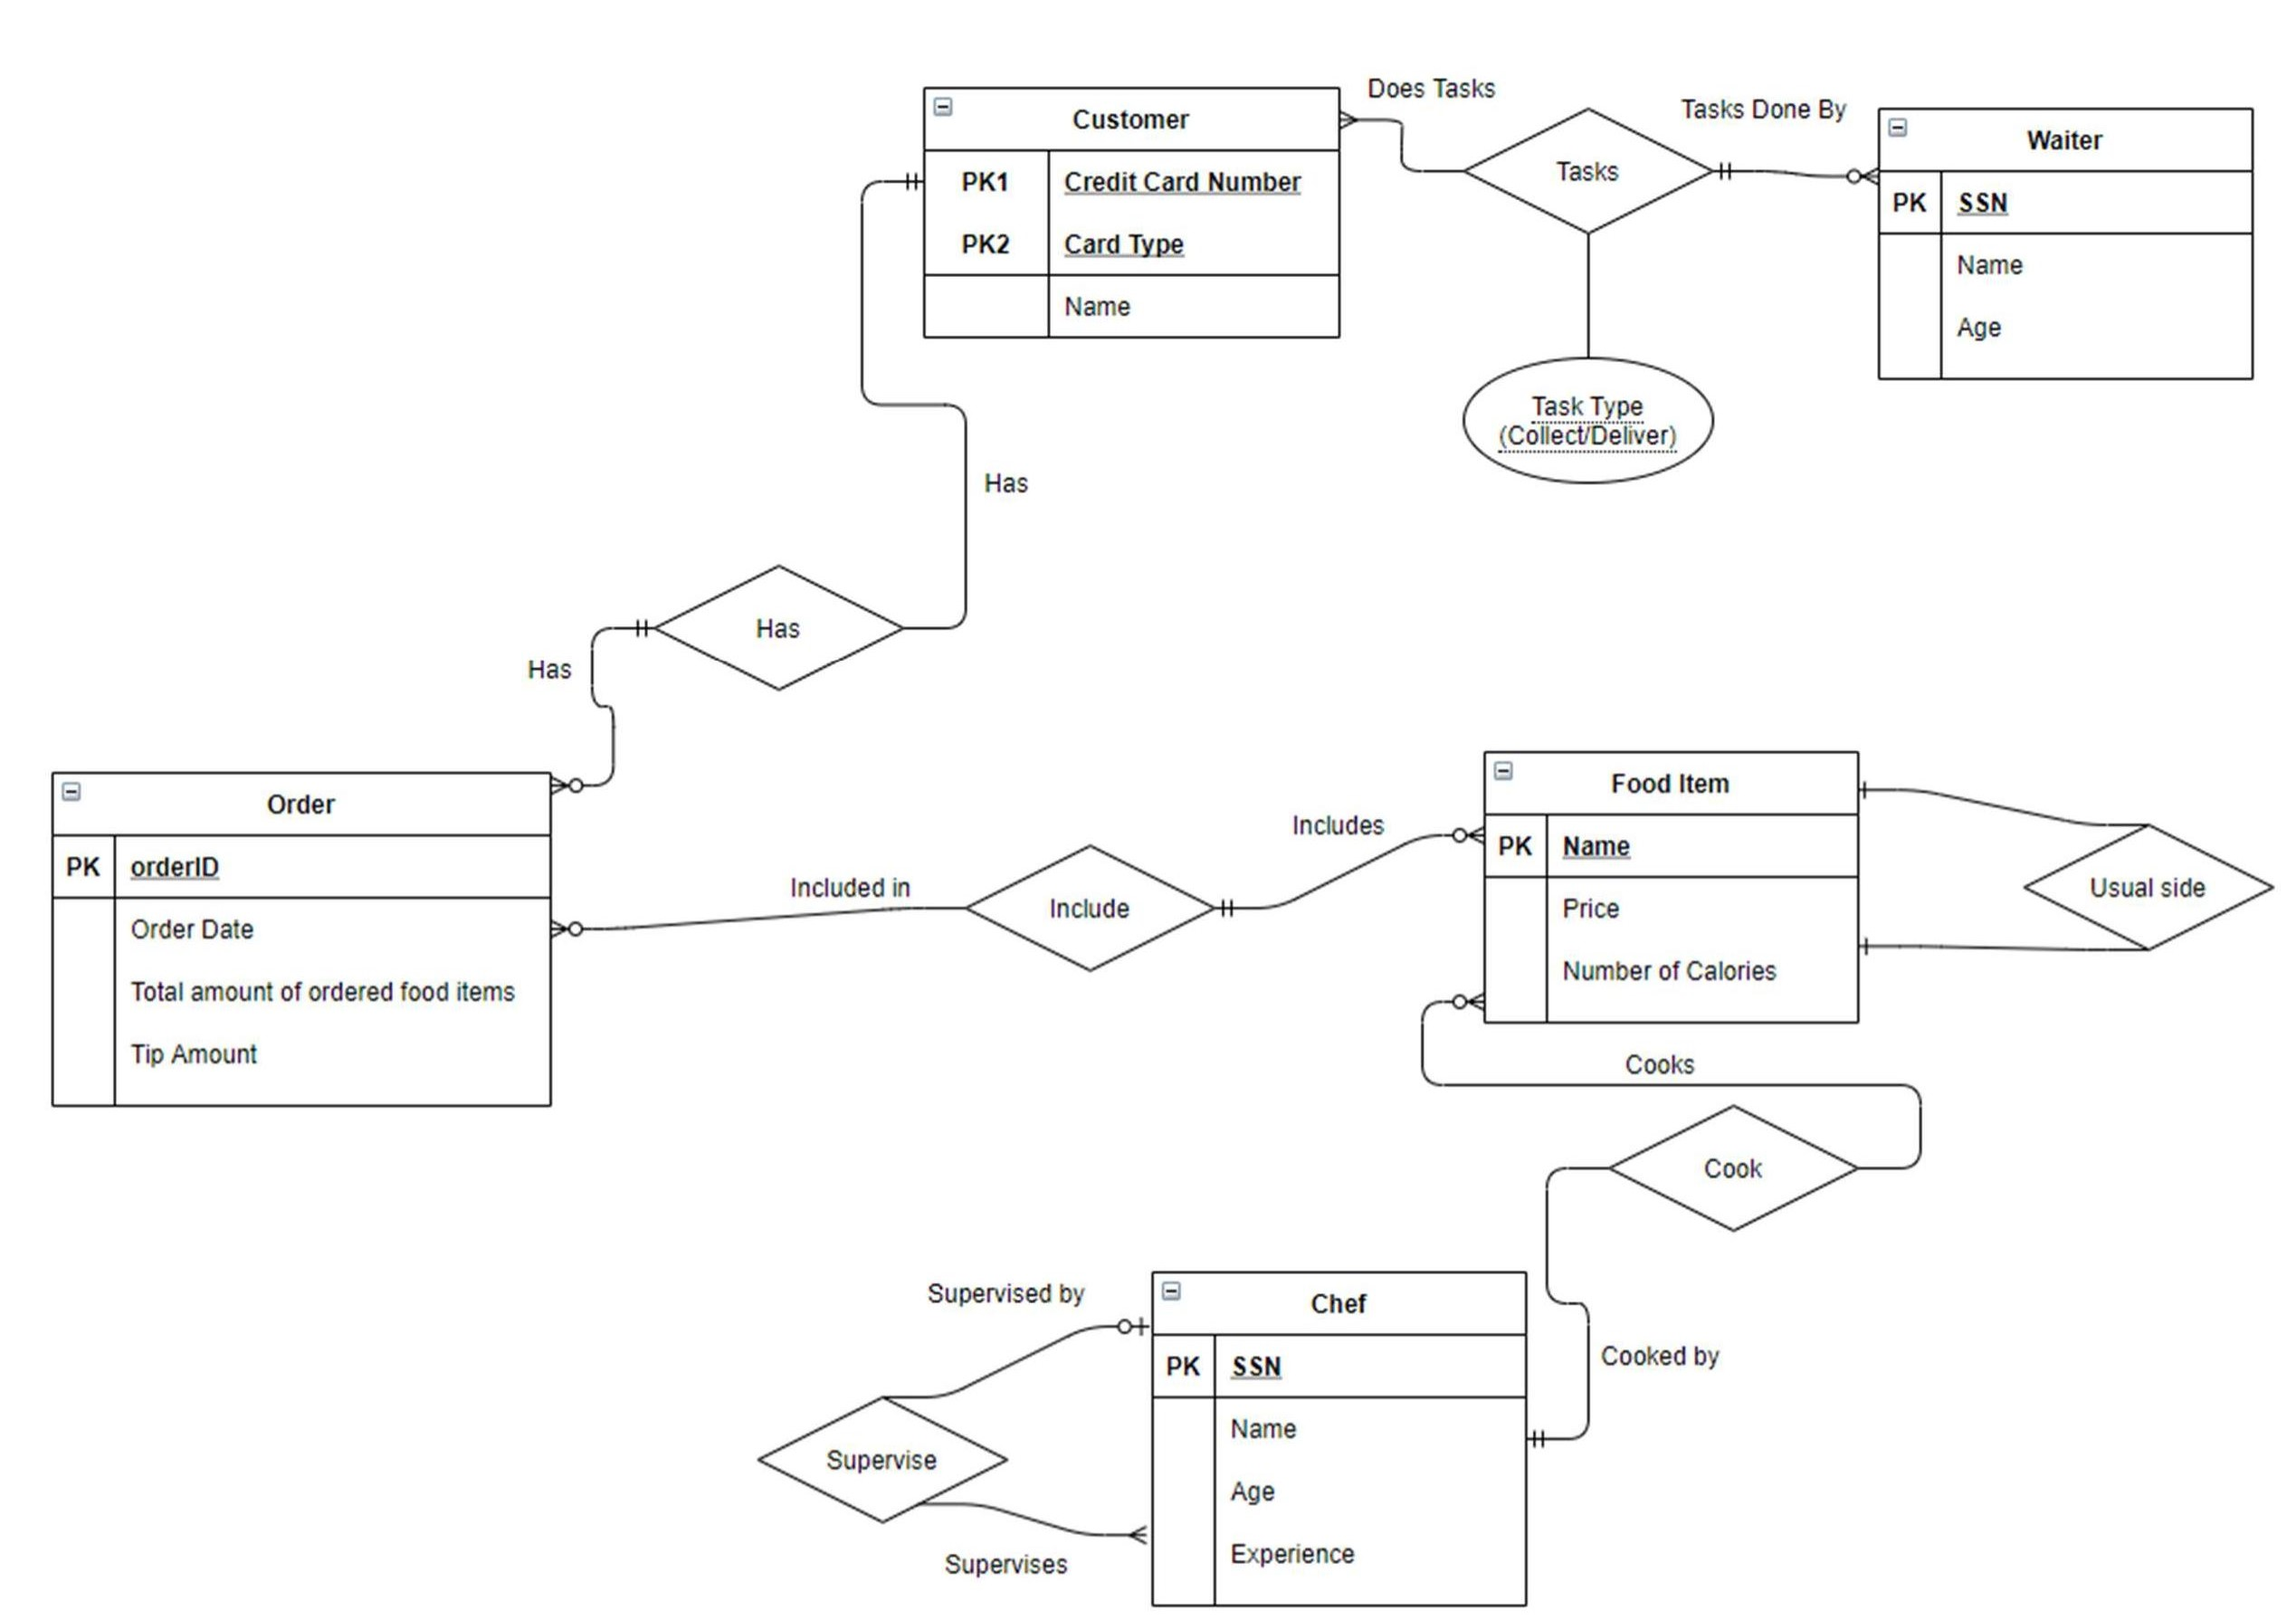Attribute: (1444, 351, 1726, 496)
Entity: (35, 768, 563, 1113), (1130, 1255, 1544, 1620), (1458, 736, 1884, 1048), (908, 75, 1358, 359), (1858, 93, 2273, 400)
Relationship: (1460, 93, 1716, 258), (2016, 814, 2291, 959), (1609, 1101, 1872, 1248), (960, 835, 1215, 985), (655, 554, 911, 696), (743, 1394, 1015, 1527)
